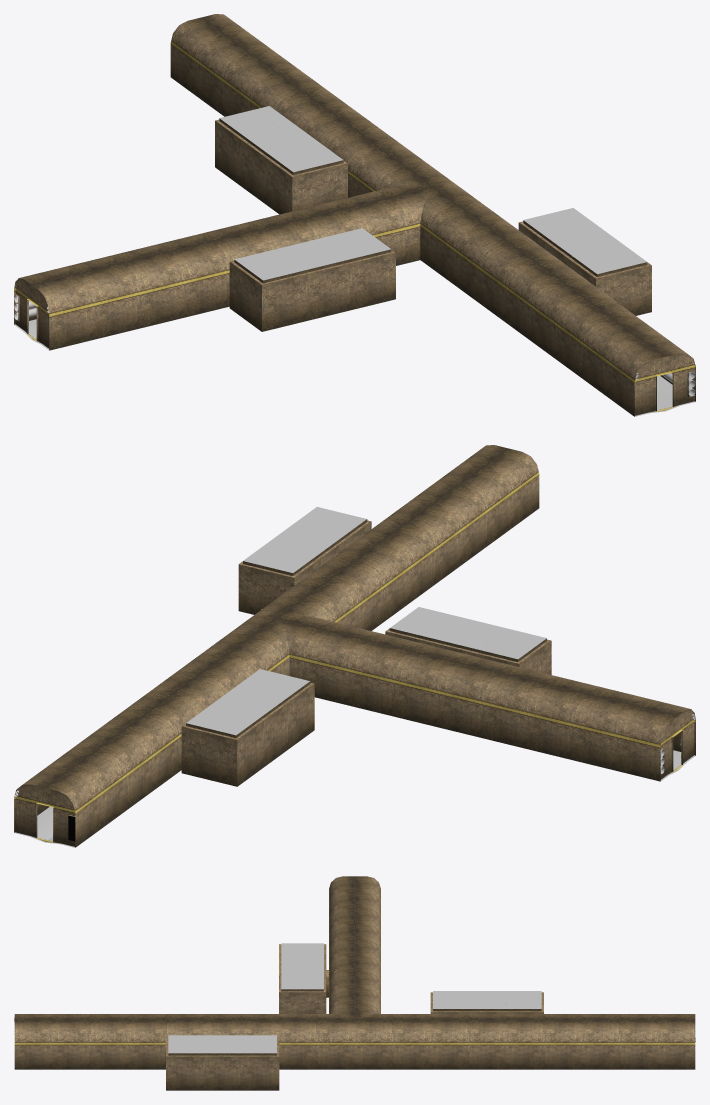
File: TunnelSpace_Tsection.FBX
3 renders of one model, top to bottom at view 1: azimuth 30°, elevation 25°; view 2: azimuth 150°, elevation 25°; view 3: azimuth 270°, elevation 25°, orthographic. The views are drawn at different scales.
Parts seen in each view (by area): view 1: TunnelSpace_Tsection, TunnelSpace_Tsection-B, TunnelSpace_Tsection-C; view 2: TunnelSpace_Tsection, TunnelSpace_Tsection-C, TunnelSpace_Tsection-B; view 3: TunnelSpace_Tsection-C, TunnelSpace_Tsection-B, TunnelSpace_Tsection.
Part boxes in pixels (x1=…): TunnelSpace_Tsection: x1=14, y1=184, x2=433, y2=350; TunnelSpace_Tsection-B: x1=420, y1=183, x2=695, y2=416; TunnelSpace_Tsection-C: x1=170, y1=14, x2=454, y2=214; TunnelSpace_Tsection: x1=276, y1=607, x2=695, y2=781; TunnelSpace_Tsection-C: x1=14, y1=614, x2=314, y2=847; TunnelSpace_Tsection-B: x1=238, y1=445, x2=539, y2=630; TunnelSpace_Tsection-C: x1=355, y1=991, x2=695, y2=1069; TunnelSpace_Tsection-B: x1=14, y1=1014, x2=354, y2=1090; TunnelSpace_Tsection: x1=279, y1=876, x2=380, y2=1019.
Size of what is drawn, in the model's own units: 3467 by 368 by 5678.
